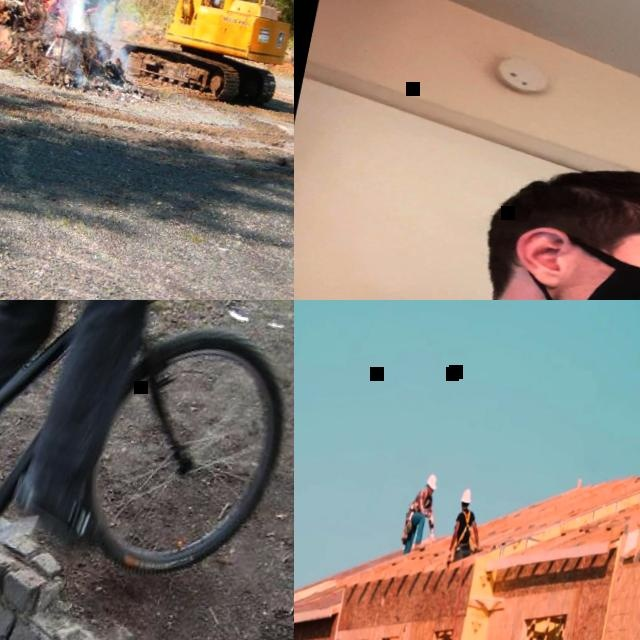Hardhat: (426, 474, 439, 491), (461, 489, 474, 505)
NO-Hardhat: (513, 147, 640, 260)
NO-Mask: (428, 490, 433, 497)
NO-Safety Vest: (455, 508, 475, 547), (410, 488, 433, 515)
Person: (294, 102, 640, 300), (0, 300, 230, 560), (400, 470, 447, 558), (447, 488, 489, 567), (210, 0, 228, 8)
machinery: (10, 0, 294, 113)
